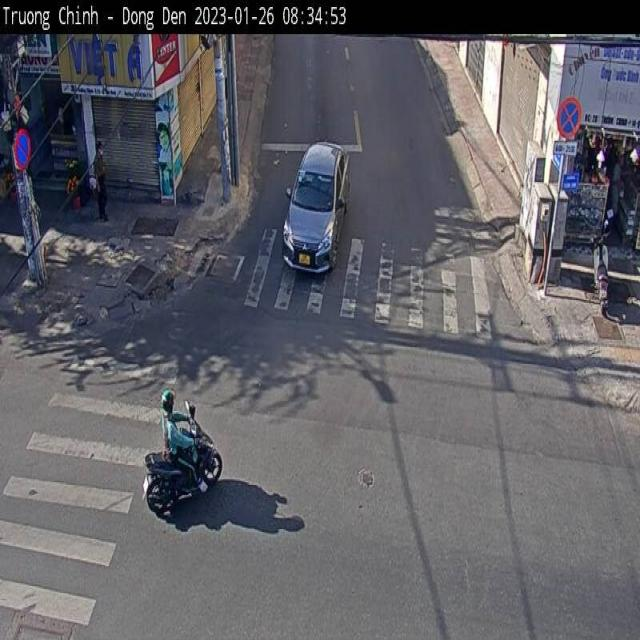helmet: (158, 382, 176, 420)
no_helmet: (93, 136, 103, 155)
